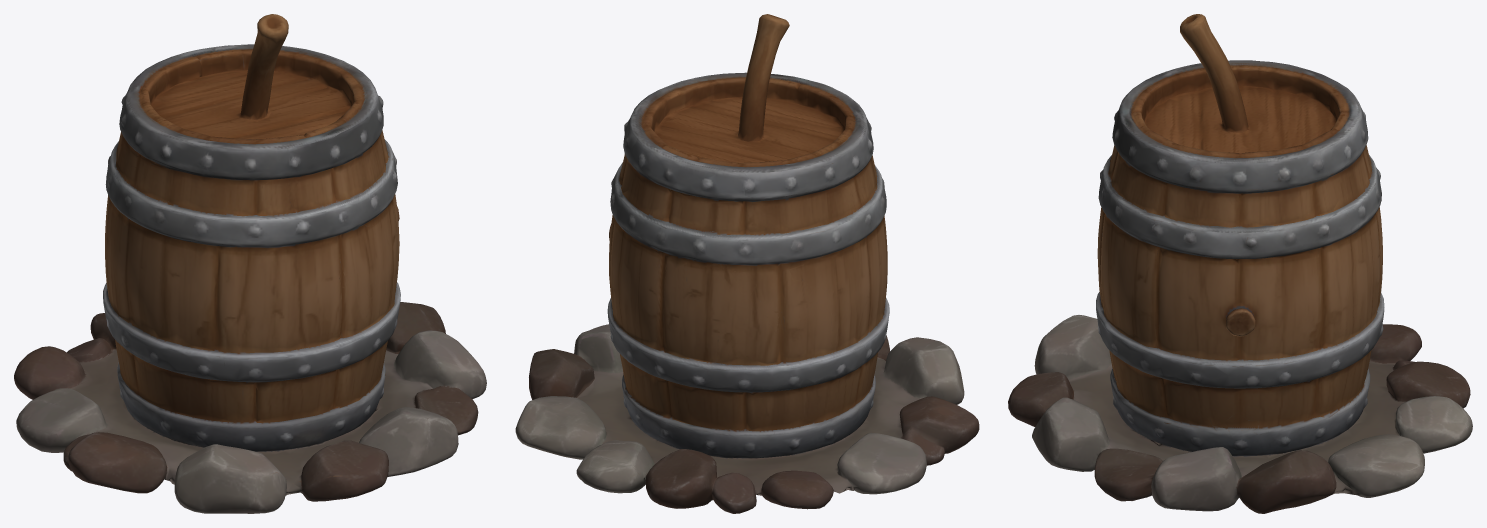
Rendered from siege_trap_bomb.glb.
3 views of the same model, side by side, from view 1: azimuth 30°, elevation 25°; view 2: azimuth 150°, elevation 25°; view 3: azimuth 270°, elevation 25° (orthographic). The views are drawn at different scales.
Parts seen in each view (by area): view 1: geometry_0; view 2: geometry_0; view 3: geometry_0.
Part boxes in pixels (x1=…): geometry_0: x1=14, y1=14, x2=486, y2=513; geometry_0: x1=515, y1=14, x2=979, y2=513; geometry_0: x1=1008, y1=14, x2=1472, y2=513.
Bounding box in the file's own units: 0.9985 × 0.9763 × 0.9993.
1 material, 1 textured.
